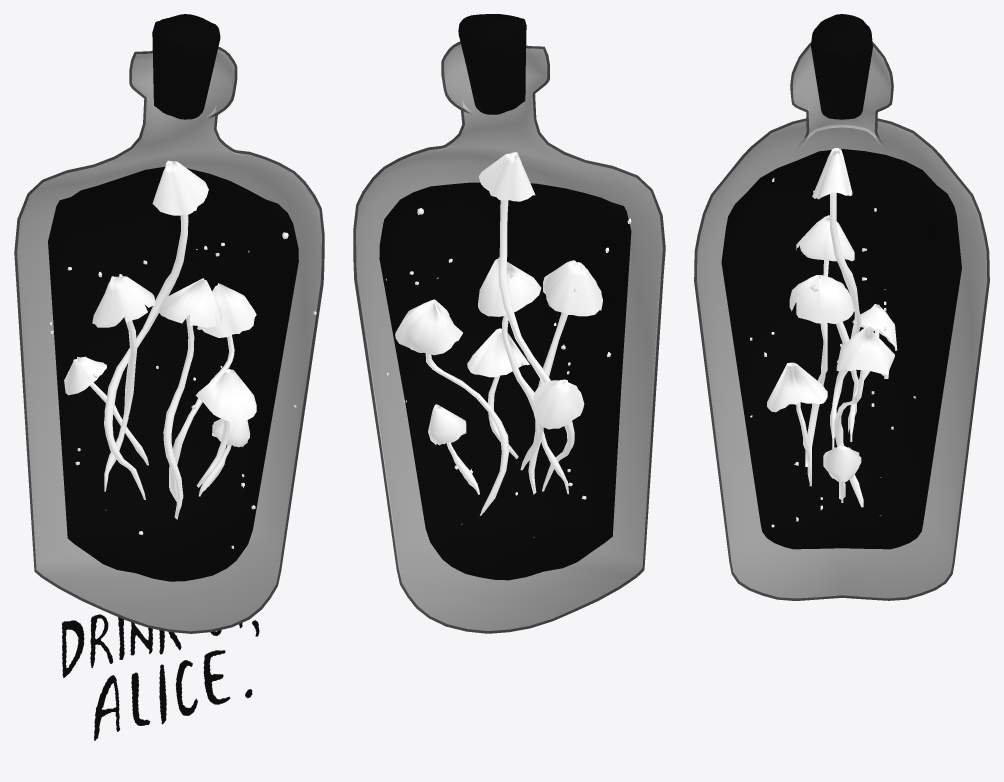
File: ill-transformed.glb
3 views of the same model, side by side, from view 1: azimuth 30°, elevation 25°; view 2: azimuth 150°, elevation 25°; view 3: azimuth 270°, elevation 25° (orthographic). The views are drawn at different scales.
Visible parts, largest first — view 1: DarkLiquid_2, BottleOutline_7, Bottle_1, Mushrooms_6, Cork_3, Plane_5; view 2: DarkLiquid_2, BottleOutline_7, Bottle_1, Mushrooms_6, Cork_3; view 3: DarkLiquid_2, BottleOutline_7, Bottle_1, Mushrooms_6, Cork_3.
Part boxes in pixels (x1,y1,x2,y2): DarkLiquid_2: (48, 166, 298, 581); BottleOutline_7: (14, 46, 324, 633); Bottle_1: (17, 49, 321, 631); Mushrooms_6: (64, 160, 256, 519); Cork_3: (152, 14, 220, 119); Plane_5: (62, 614, 259, 740); DarkLiquid_2: (379, 182, 631, 580); BottleOutline_7: (353, 41, 665, 633); Bottle_1: (356, 44, 662, 630); Mushrooms_6: (395, 152, 602, 515); Cork_3: (458, 14, 526, 114); DarkLiquid_2: (721, 149, 961, 549); BottleOutline_7: (694, 42, 989, 600); Bottle_1: (697, 46, 987, 598); Mushrooms_6: (767, 148, 897, 507); Cork_3: (810, 14, 872, 119).
Size of the model in its own units: 1.75 by 4.32 by 1.66.
Materials: 5 (1 with a texture image).
